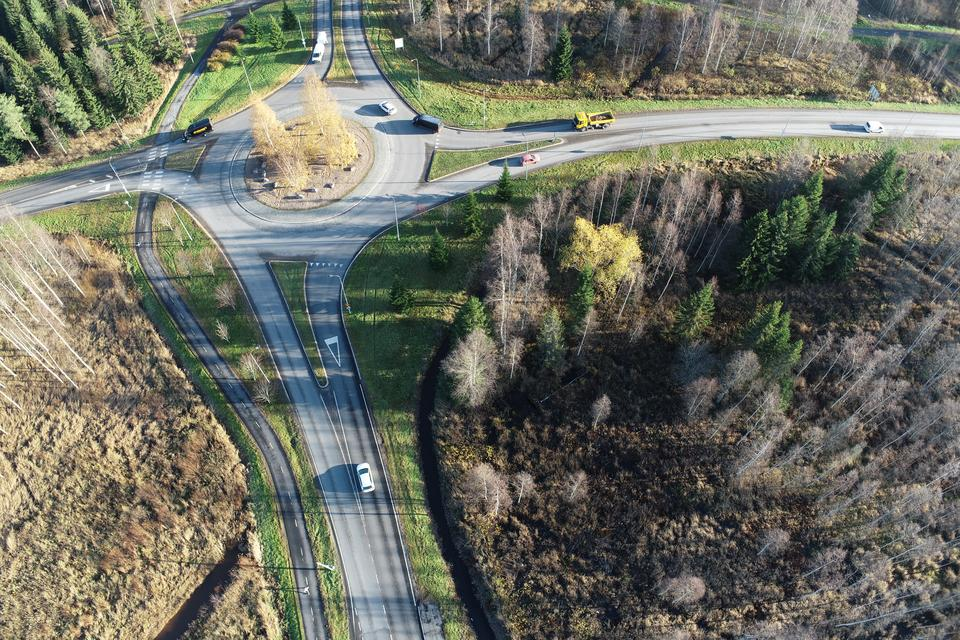intersection: (125, 124, 183, 237)
roundabout: (191, 60, 483, 305)
